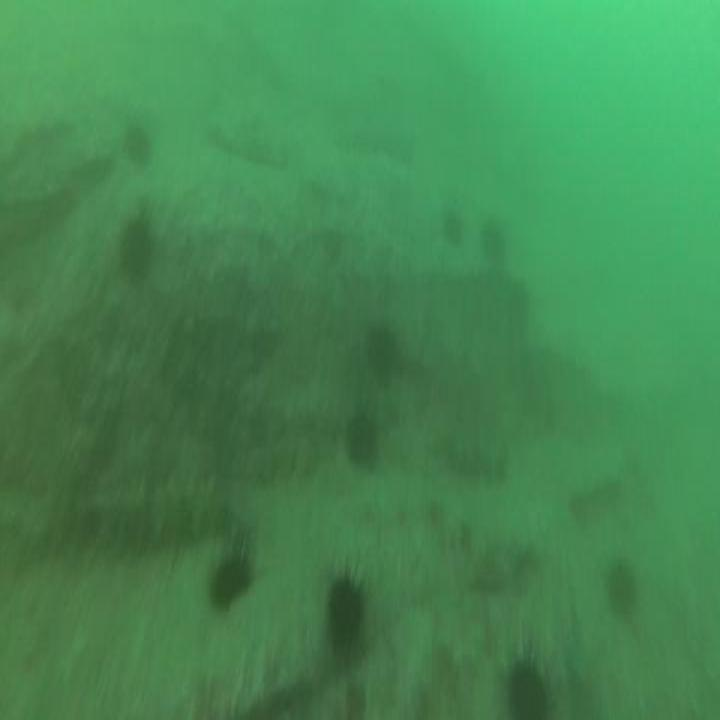echinus: (210, 551, 252, 608), (326, 582, 362, 644), (510, 665, 545, 720), (346, 409, 377, 467), (123, 217, 149, 283), (368, 318, 396, 374), (605, 564, 635, 612), (125, 123, 151, 165), (484, 219, 504, 261)
holothurian: (88, 489, 235, 547)
